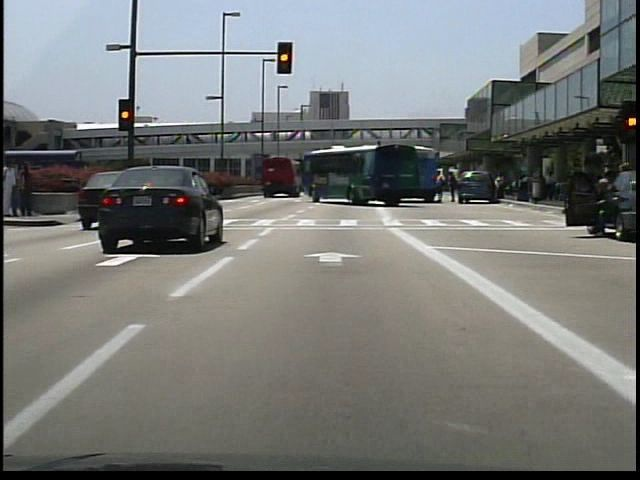person: (584, 174, 618, 237), (4, 162, 23, 217), (22, 161, 39, 219), (431, 167, 445, 203), (445, 167, 458, 204), (492, 169, 504, 201)
